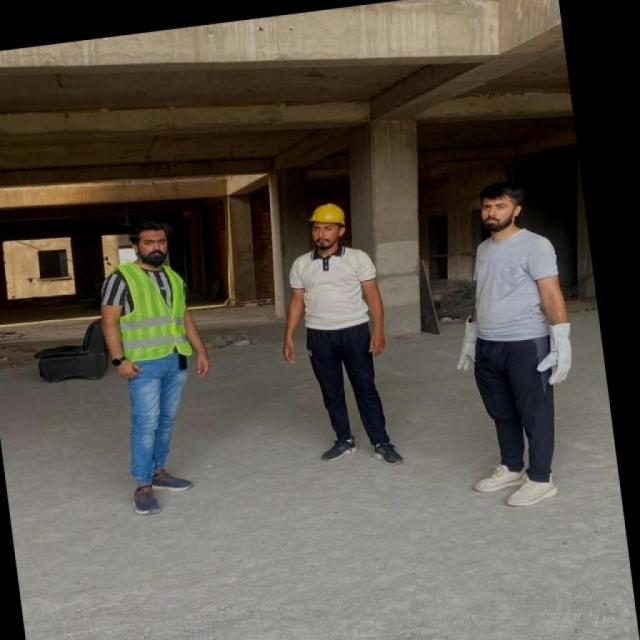Gloves-Detection: (536, 323, 579, 388), (456, 314, 474, 371)
